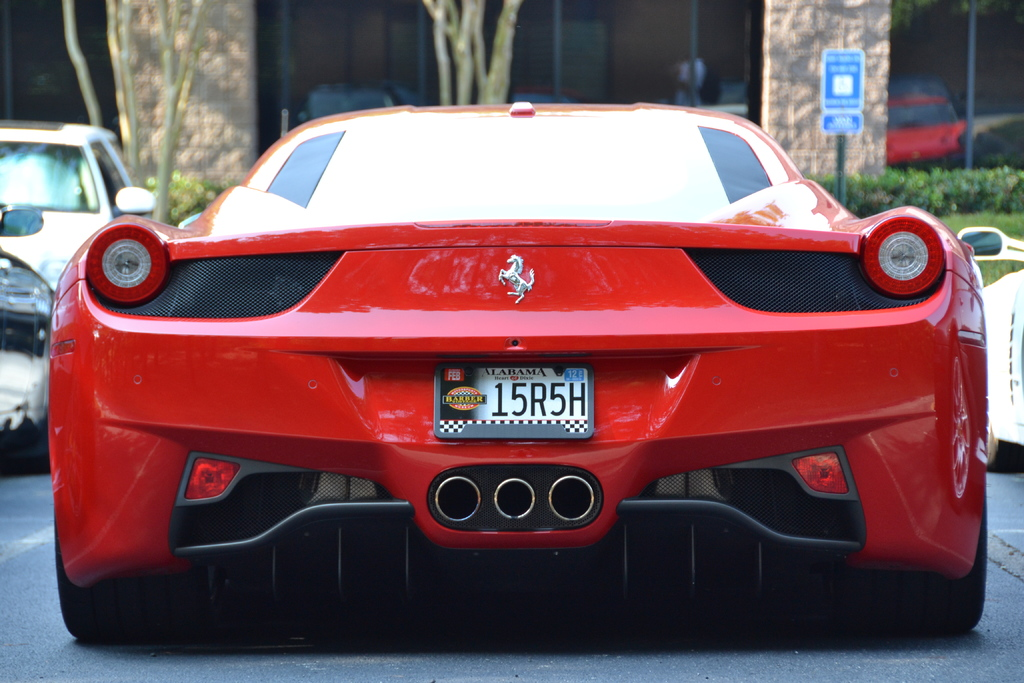mobil: (42, 100, 992, 652)
